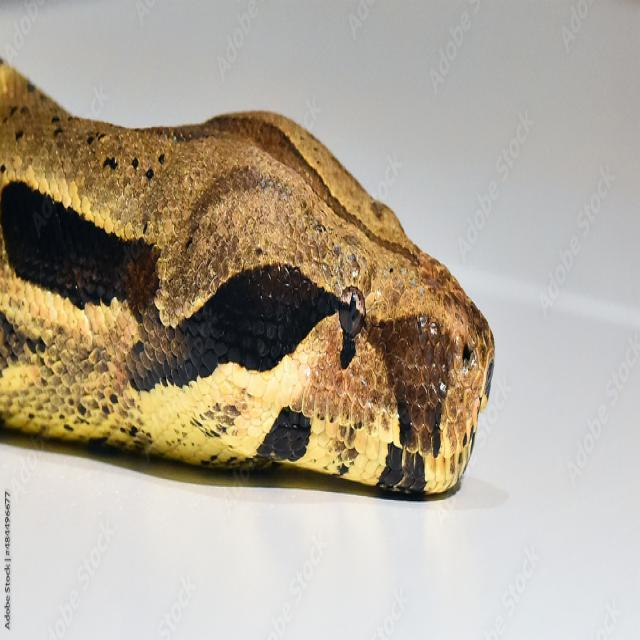Snake: (0, 0, 510, 522)
